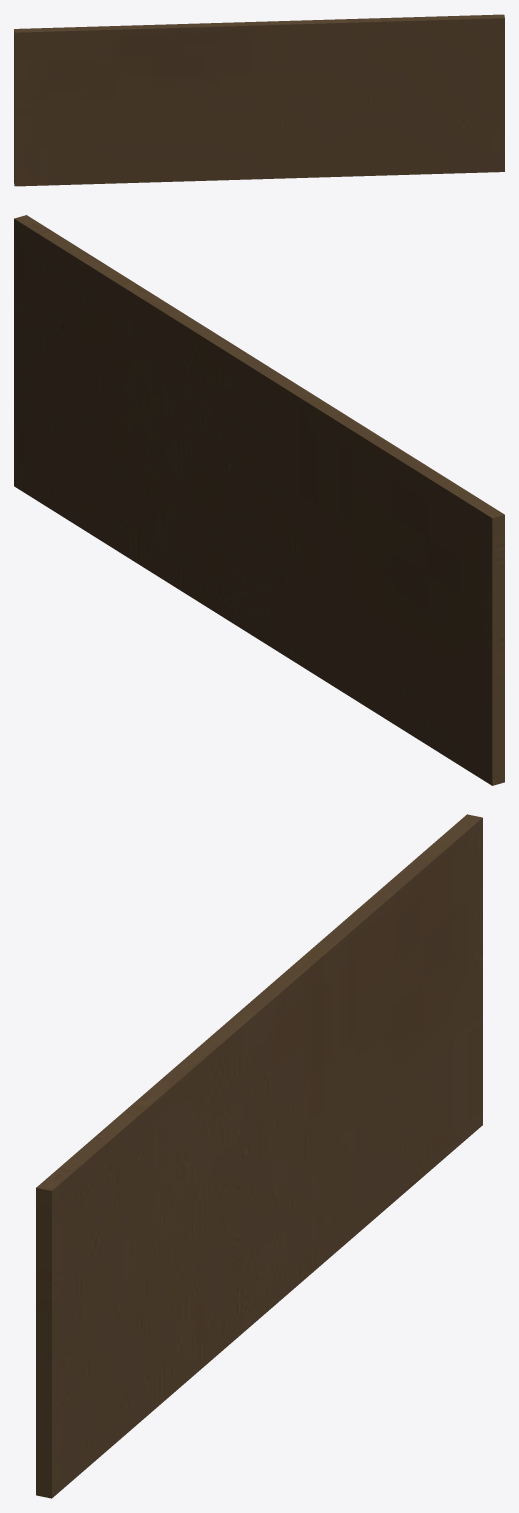
Rendered from backrest__backrest_board.glb.
3 renders of one model, top to bottom at view 1: azimuth 30°, elevation 25°; view 2: azimuth 150°, elevation 25°; view 3: azimuth 270°, elevation 25°, orthographic. The views are drawn at different scales.
Parts seen in each view (by area): view 1: geometry_0; view 2: geometry_0; view 3: geometry_0.
Boxes of the visible parts, x1=… form: geometry_0: x1=14, y1=14, x2=504, y2=186; geometry_0: x1=14, y1=215, x2=504, y2=785; geometry_0: x1=36, y1=814, x2=482, y2=1498.
Size of the model in its own units: 0.7616 by 0.29 by 0.3817.
Materials: 1 (1 with a texture image).
